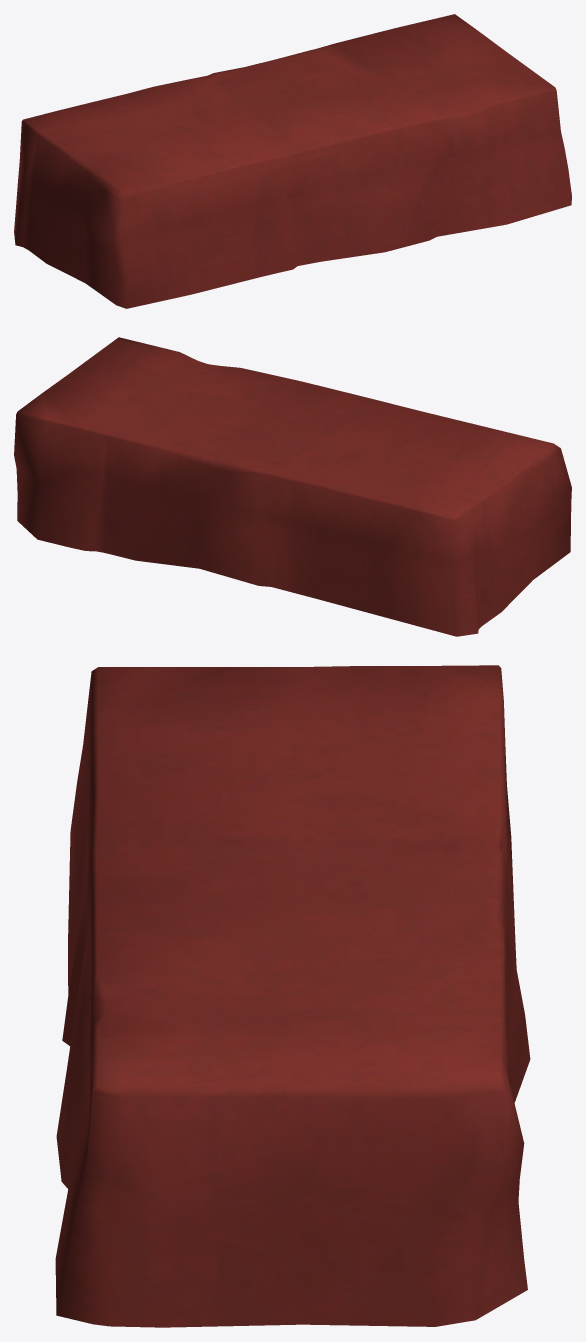
Rendered from SM_ENV_LKNVLD_UmbrellaStool_A.FBX.
The picture shows the model from 3 angles, top to bottom: view 1: azimuth 30°, elevation 25°; view 2: azimuth 150°, elevation 25°; view 3: azimuth 270°, elevation 25°; orthographic projection. The views are drawn at different scales.
Parts seen in each view (by area): view 1: SM_ENV_LKNVLD_UmbrellaStool_A; view 2: SM_ENV_LKNVLD_UmbrellaStool_A; view 3: SM_ENV_LKNVLD_UmbrellaStool_A.
Part boxes in pixels (x1,y1,x2,y2): SM_ENV_LKNVLD_UmbrellaStool_A: [14, 14, 571, 308]; SM_ENV_LKNVLD_UmbrellaStool_A: [14, 337, 571, 636]; SM_ENV_LKNVLD_UmbrellaStool_A: [55, 665, 530, 1327].
Bounding box in the file's own units: 219 × 52.95 × 96.96.
